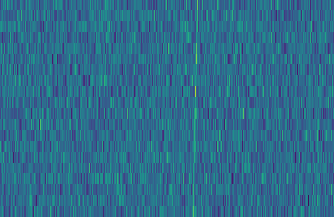signal: (188, 0, 202, 217)
